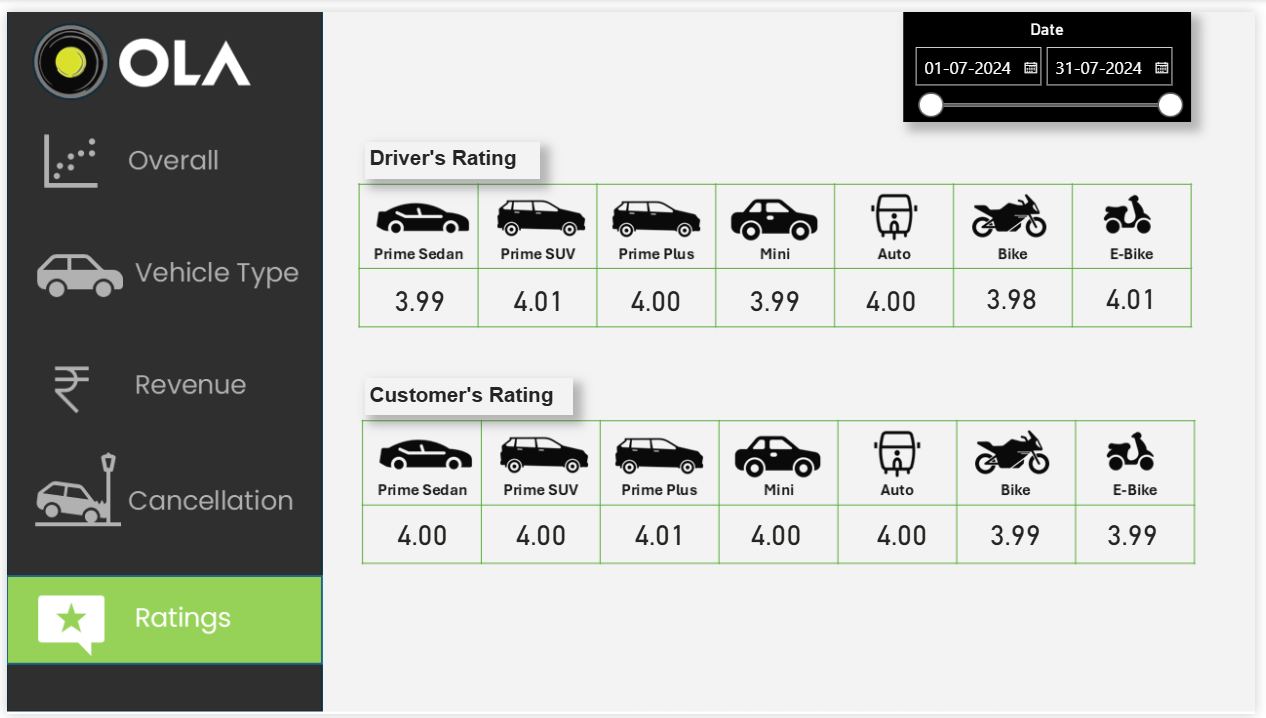

This screenshot's page, from the dashboard's own definition file:
{"tool":"powerbi","page":{"name":"Ratings","canvas":[1280,720],"ordinal":4},"visuals":[{"type":"actionButton","box":[0,224.4,325.7,94.1],"z":0},{"type":"actionButton","box":[0,109.8,325.7,90.5],"z":1000},{"type":"actionButton","box":[0,340.2,325.7,92.9],"z":2000},{"type":"actionButton","box":[0,447.6,325.7,94.1],"z":3000},{"type":"actionButton","box":[0,577.9,325.7,90.5],"z":4000},{"type":"card","fields":{"Values":["Avg(July.Driver_Ratings)"]},"box":[366.2,266.2,113.8,56.2],"z":5000},{"type":"card","fields":{"Values":["Avg(July.Driver_Ratings)"]},"box":[488.8,266.2,113.8,56.2],"z":6000},{"type":"card","fields":{"Values":["Avg(July.Driver_Ratings)"]},"box":[602.5,266.2,126.2,56.2],"z":7000},{"type":"card","fields":{"Values":["Avg(July.Driver_Ratings)"]},"box":[728.8,266.2,118.8,56.2],"z":8000},{"type":"card","fields":{"Values":["Avg(July.Driver_Ratings)"]},"box":[847.5,266.2,118.8,56.2],"z":9000},{"type":"card","fields":{"Values":["Avg(July.Driver_Ratings)"]},"box":[966.2,262.5,127.5,60],"z":10000},{"type":"card","fields":{"Values":["Avg(July.Driver_Ratings)"]},"box":[1093.8,262.5,118.8,60],"z":11000},{"type":"card","fields":{"Values":["Avg(July.Customer_Rating)"]},"box":[366.2,506.2,119,57.5],"z":12000},{"type":"card","fields":{"Values":["Avg(July.Customer_Rating)"]},"box":[488.8,506.2,118.8,57.5],"z":13000},{"type":"card","fields":{"Values":["Avg(July.Customer_Rating)"]},"box":[610,506.2,118.8,57.5],"z":14000},{"type":"card","fields":{"Values":["Avg(July.Customer_Rating)"]},"box":[730,506.2,118.8,57.5],"z":15000},{"type":"card","fields":{"Values":["Avg(July.Customer_Rating)"]},"box":[858.8,506.2,118,57.5],"z":16000},{"type":"card","fields":{"Values":["Avg(July.Customer_Rating)"]},"box":[976.2,506.2,117.5,57.5],"z":17000},{"type":"card","fields":{"Values":["Avg(July.Customer_Rating)"]},"box":[1095,506.2,118.8,57.5],"z":18000},{"type":"textbox","box":[366.2,133.8,180,38.8],"z":19000},{"type":"textbox","box":[366.2,376.2,213.8,37.5],"z":20000},{"type":"slicer","title":"Date","fields":{"Values":["July.Date"]},"box":[918.8,0,295,112.5],"z":21000}]}

Visuals, with their boxes on the page's 1280x720 design canvas (x1, y1, x2, y2). These are canvas units, not pixel positions in the 1266x718 screenshot, which may show the page scaled, cropped or inside an application window:
actionButton: l=0, t=224, r=326, b=318
actionButton: l=0, t=110, r=326, b=200
actionButton: l=0, t=340, r=326, b=433
actionButton: l=0, t=448, r=326, b=542
actionButton: l=0, t=578, r=326, b=668
card - Avg(July.Driver_Ratings): l=366, t=266, r=480, b=322
card - Avg(July.Driver_Ratings): l=489, t=266, r=603, b=322
card - Avg(July.Driver_Ratings): l=602, t=266, r=729, b=322
card - Avg(July.Driver_Ratings): l=729, t=266, r=848, b=322
card - Avg(July.Driver_Ratings): l=848, t=266, r=966, b=322
card - Avg(July.Driver_Ratings): l=966, t=262, r=1094, b=322
card - Avg(July.Driver_Ratings): l=1094, t=262, r=1213, b=322
card - Avg(July.Customer_Rating): l=366, t=506, r=485, b=564
card - Avg(July.Customer_Rating): l=489, t=506, r=608, b=564
card - Avg(July.Customer_Rating): l=610, t=506, r=729, b=564
card - Avg(July.Customer_Rating): l=730, t=506, r=849, b=564
card - Avg(July.Customer_Rating): l=859, t=506, r=977, b=564
card - Avg(July.Customer_Rating): l=976, t=506, r=1094, b=564
card - Avg(July.Customer_Rating): l=1095, t=506, r=1214, b=564
textbox: l=366, t=134, r=546, b=173
textbox: l=366, t=376, r=580, b=414
"Date" slicer: l=919, t=0, r=1214, b=112
